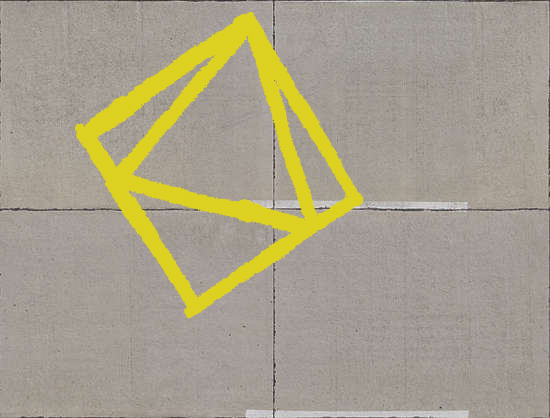marker: (66, 8, 369, 322)
